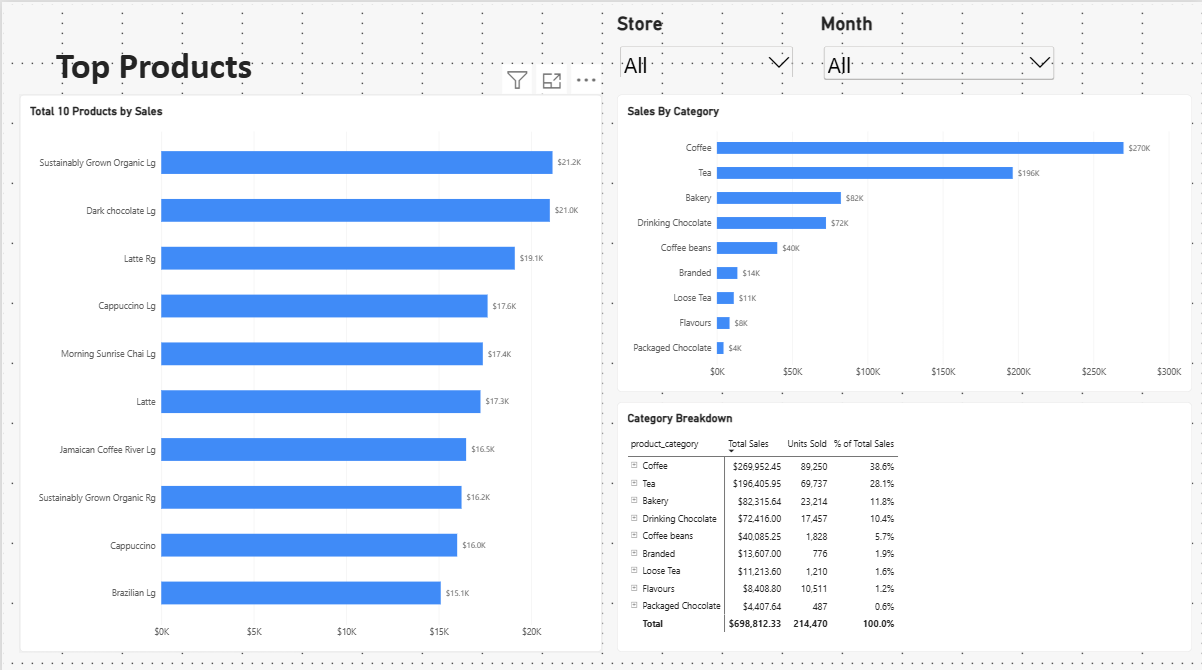

This screenshot's page, from the dashboard's own definition file:
{"tool":"powerbi","page":{"name":"Products","canvas":[1920,1080],"ordinal":1},"visuals":[{"type":"slicer","title":"Store","fields":{"Values":["dim_store.store_location"]},"box":[984,16,286.7,103.3],"z":0},{"type":"slicer","title":"Month","fields":{"Values":["dim_date.month_name"]},"box":[1310,16,378.3,131.7],"z":1},{"type":"clusteredBarChart","title":"Total 10 Products by Sales","fields":{"Category":["dim_product.product_detail"],"Y":["_Measure.Total Sales"]},"box":[28,148,932,892],"z":2},{"type":"clusteredBarChart","title":"Sales By Category","fields":{"Category":["dim_product.product_category"],"Y":["_Measure.Total Sales"]},"box":[984,148,920,476],"z":3},{"type":"pivotTable","title":"Category Breakdown","fields":{"Rows":["dim_product.product_category","dim_product.product_type","dim_product.product_detail"],"Values":["_Measure.Total Sales","_Measure.Units Sold","_Measure.% of Total Sales"]},"box":[984,640,920,400],"z":4},{"type":"textbox","box":[86,66,860,80],"z":5}]}

Visuals, with their boxes in screenshot pixels (x1, y1, x2, y2), scaled from the page's 1920x1080 canvas onto the 1202x670 screenshot:
"Store" slicer: select_region(616, 10, 796, 74)
"Month" slicer: select_region(820, 10, 1057, 92)
"Total 10 Products by Sales" clusteredBarChart: select_region(18, 92, 601, 645)
"Sales By Category" clusteredBarChart: select_region(616, 92, 1192, 387)
"Category Breakdown" pivotTable: select_region(616, 397, 1192, 645)
textbox: select_region(54, 41, 592, 91)
